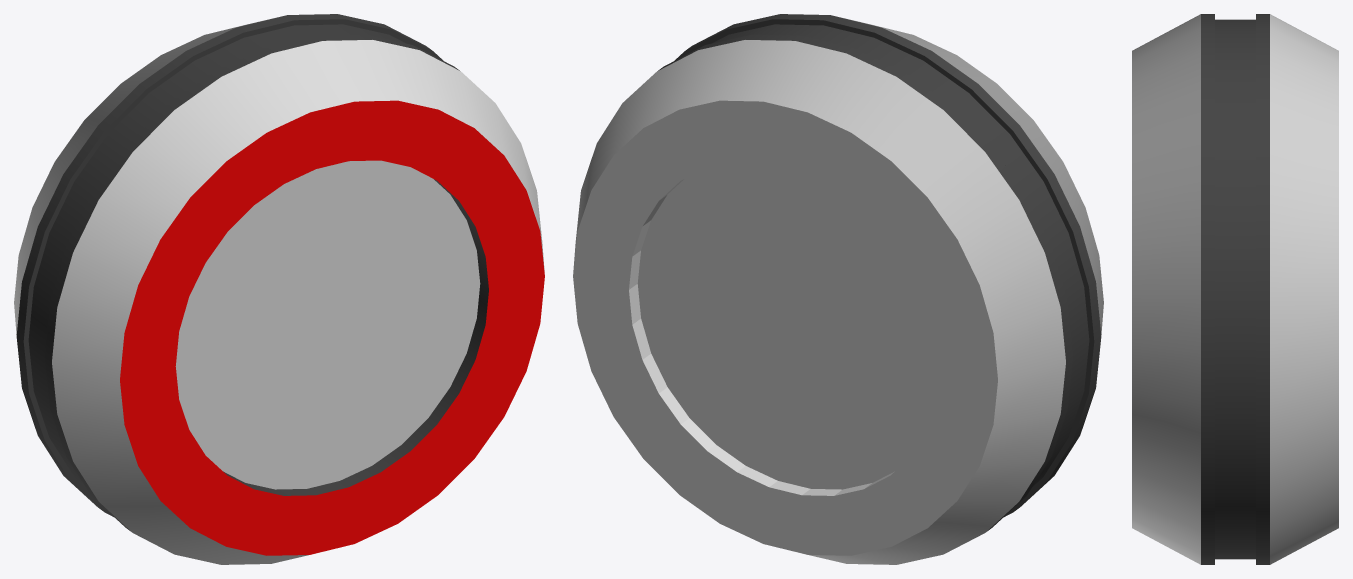
Rendered from skyGuardian.obj.
3 views of the same model, side by side, from view 1: azimuth 30°, elevation 25°; view 2: azimuth 150°, elevation 25°; view 3: azimuth 270°, elevation 25° (orthographic). The views are drawn at different scales.
Visible parts, largest first — view 1: ChamferCyl001; view 2: ChamferCyl001; view 3: ChamferCyl001.
Part boxes in pixels (x1=…): ChamferCyl001: x1=14, y1=14, x2=544, y2=564; ChamferCyl001: x1=573, y1=14, x2=1103, y2=564; ChamferCyl001: x1=1132, y1=14, x2=1338, y2=564.
Size of the model in its own units: 1.22 by 1.21 by 0.4542.
